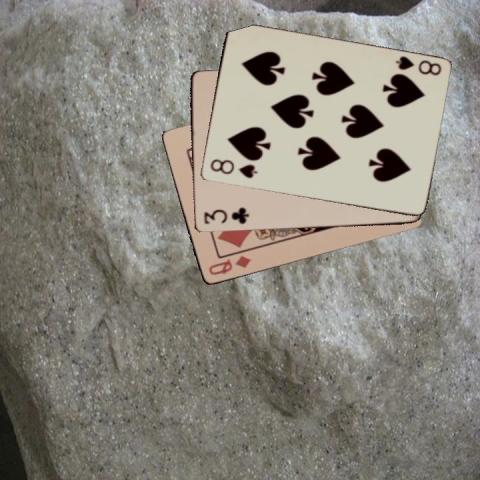3c: (201, 205, 250, 225)
8s: (206, 156, 258, 180), (392, 54, 443, 77)
Qd: (205, 252, 252, 276)
